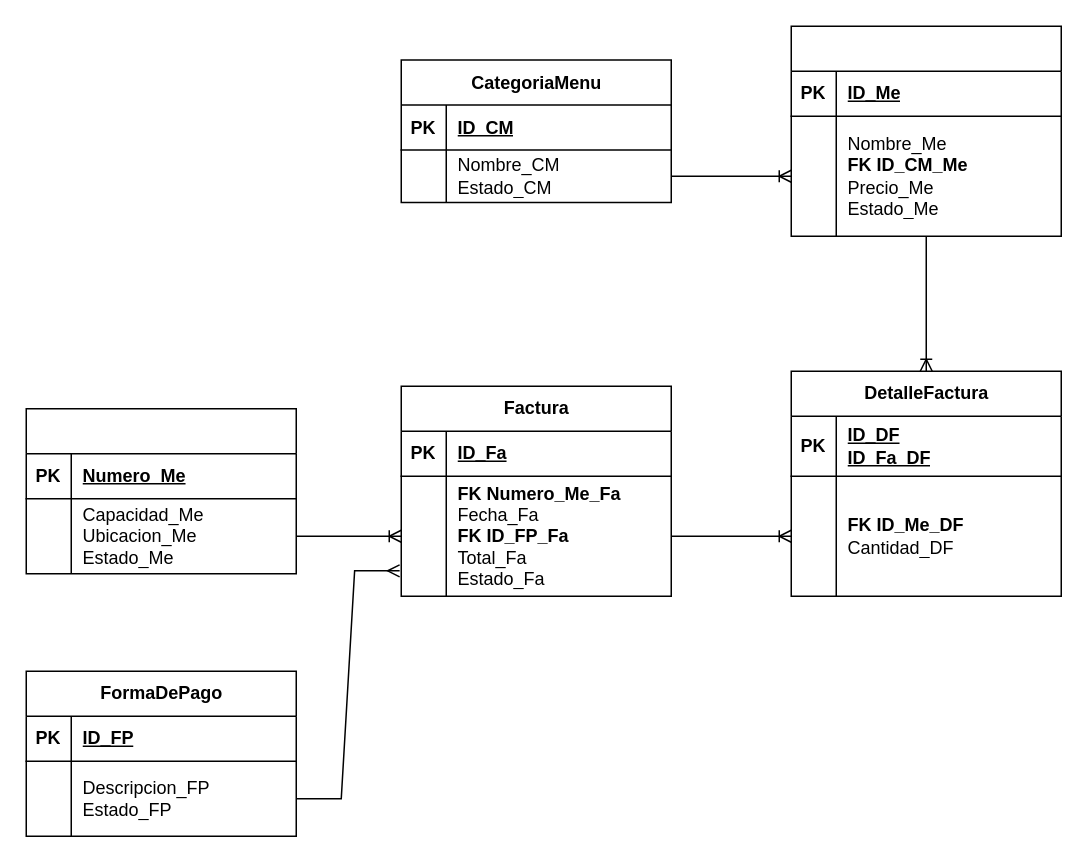
Some shapes in this 1088 by 863 pixel diagram are drawn without their labels. Here are the shapes that lost their labels. From the top down, the box of each, then its label:
(790, 25, 1061, 236): Menu
(25, 407, 296, 574): Mesa
